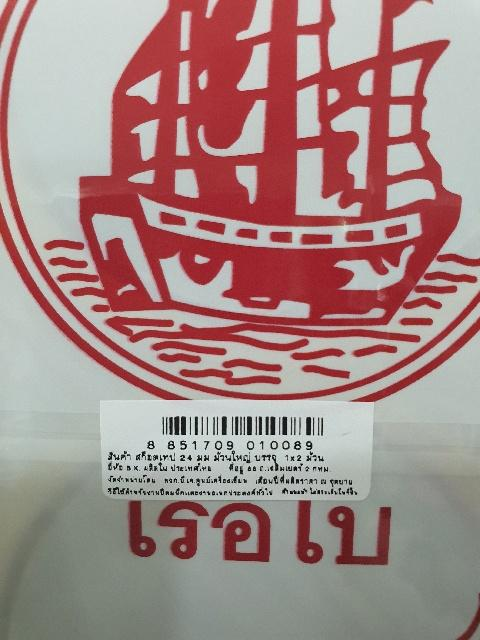Barcode: (144, 410, 333, 450)
